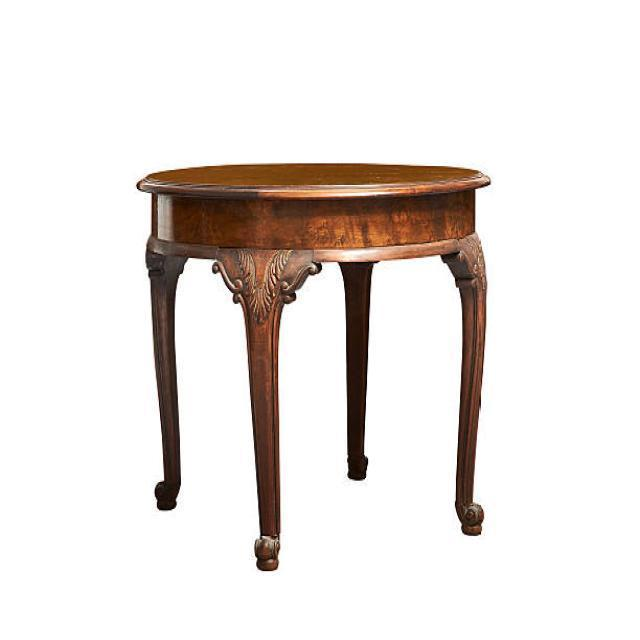table: (134, 160, 492, 572)
